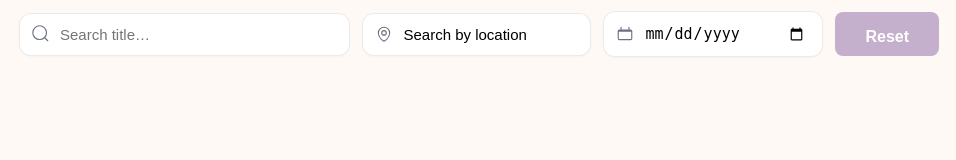
Test case: SearchBar › clears filters when Reset is clicked
Type "bag" into the search field labelled "Search title…" at coordinates (185, 34), box [19,12,350,56]
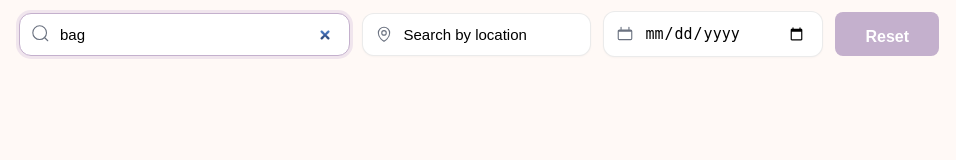
Select "Ada Dodge Hall" in the dropdown named "search by location" at coordinates (477, 34), box [362,12,591,56]
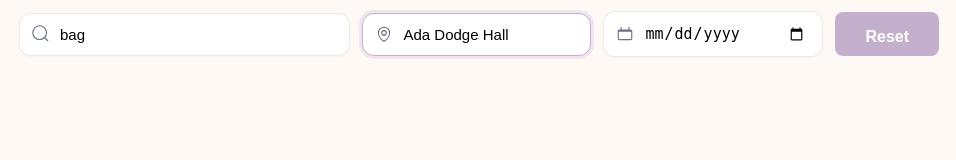
Type "2024-01-01" into the date field named "filter by date" at coordinates (713, 34), box [603,11,823,57]
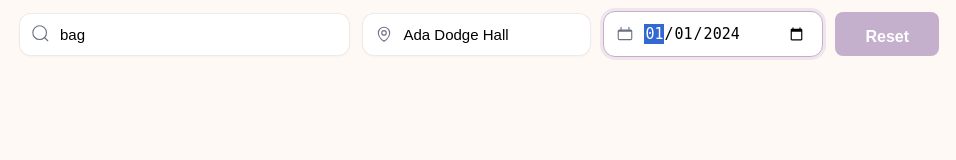
Click the button "Reset" at coordinates (887, 34), box [835,12,939,56]
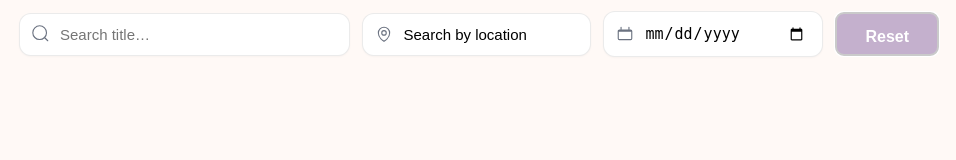
Result: the search field labelled "Search title…" is empty at [19,12,350,56]
Result: the date field named "filter by date" is empty at [603,11,823,57]
